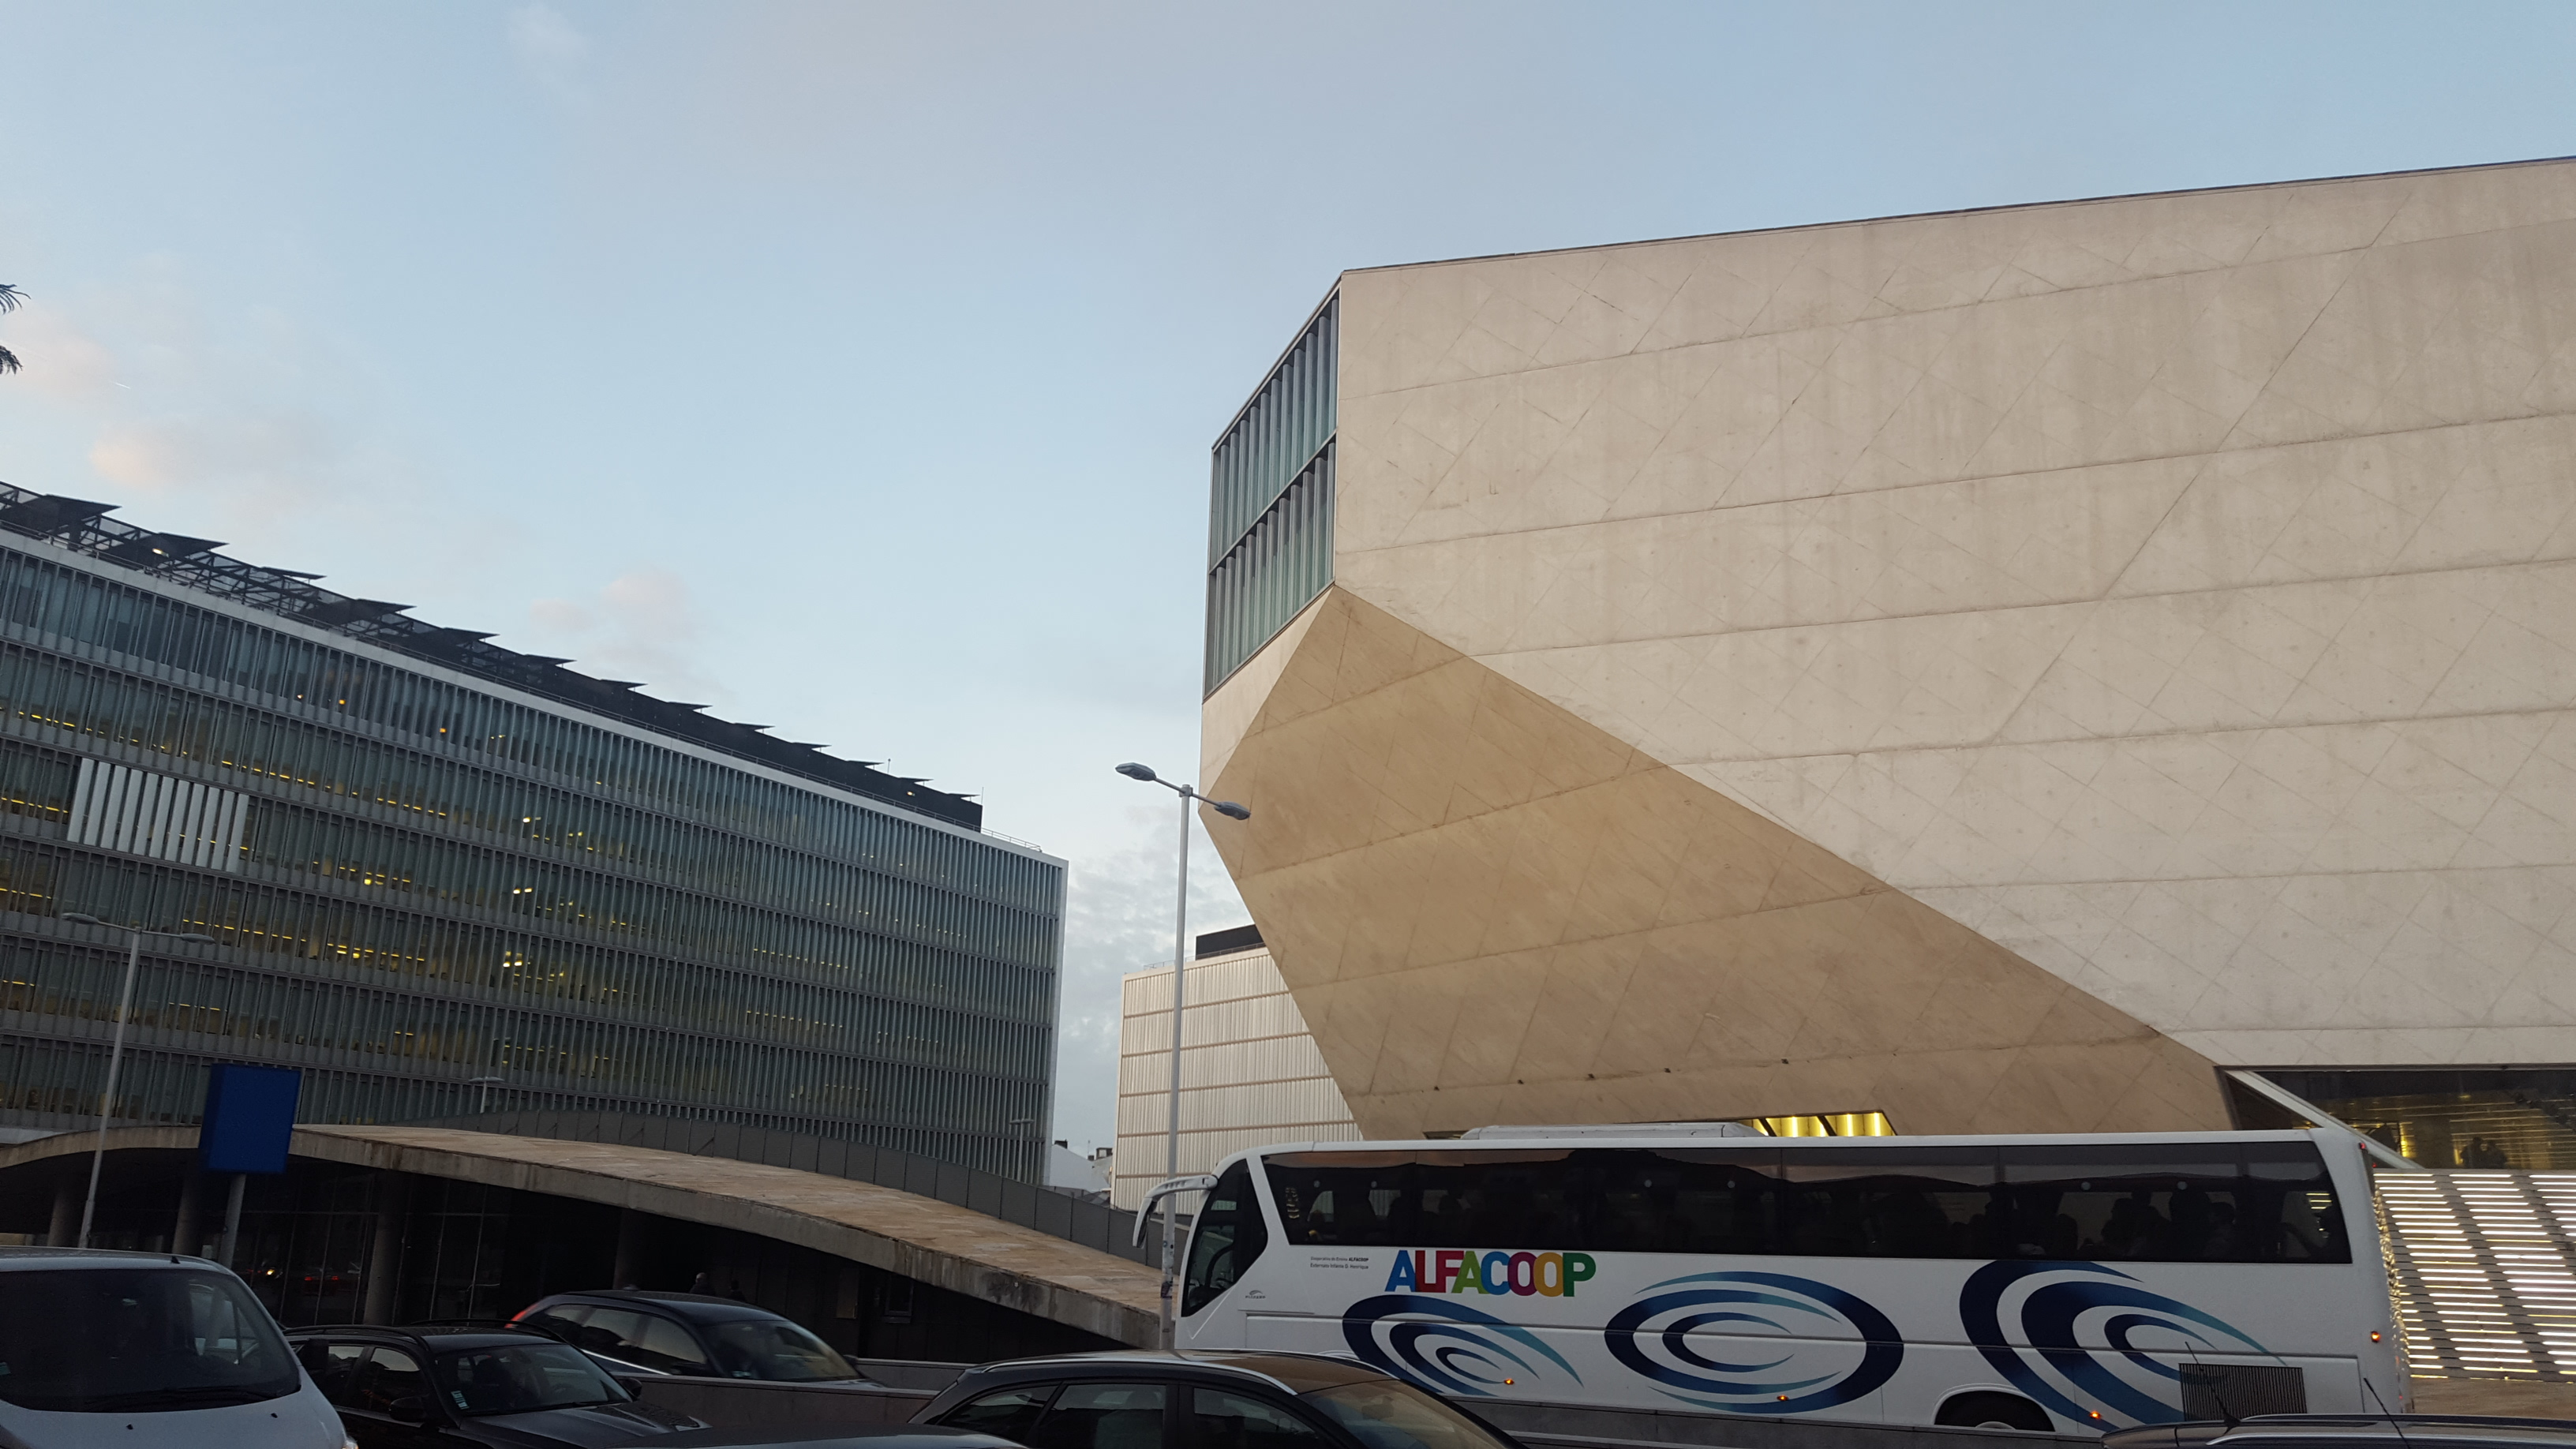musica: (1184, 150, 2576, 1164)
